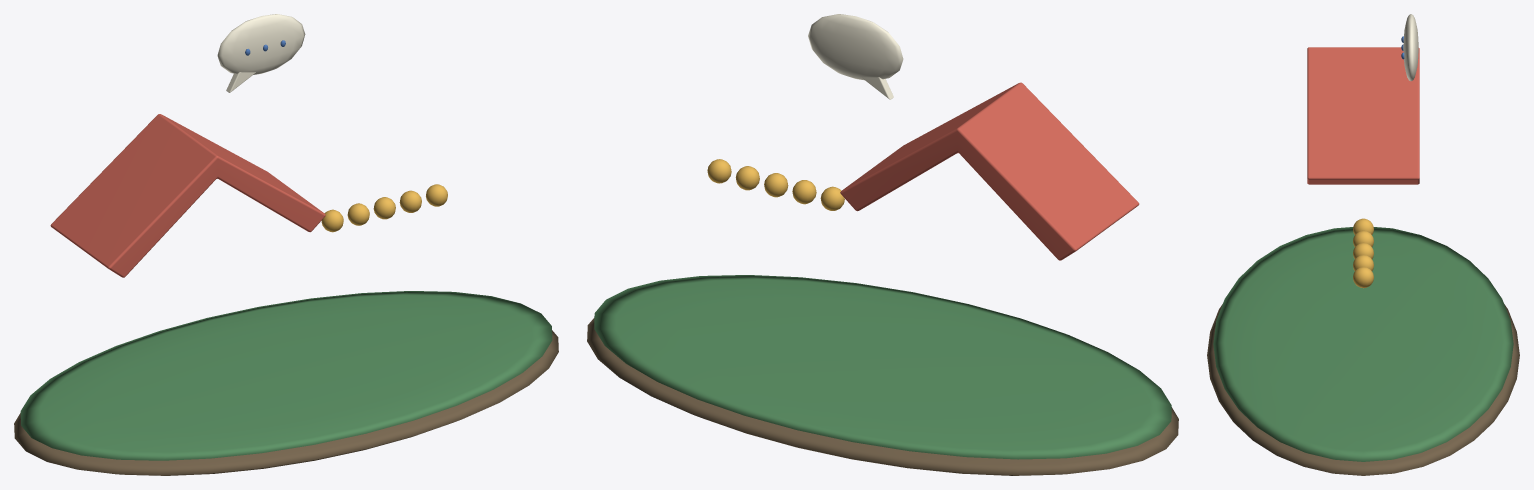
The model's file is complete-third-shelter-sowing-sound.glb.
3 renders of one model, left to right at view 1: azimuth 30°, elevation 25°; view 2: azimuth 150°, elevation 25°; view 3: azimuth 270°, elevation 25°, orthographic. The views are drawn at different scales.
Visible parts, largest first — view 1: complete-third-shelter-sowing-sound_surface_01, complete-third-shelter-sowing-sound_surface_02, complete-third-shelter-sowing-sound_surface_00, complete-third-shelter-sowing-sound_surface_04, complete-third-shelter-sowing-sound_surface_03; view 2: complete-third-shelter-sowing-sound_surface_01, complete-third-shelter-sowing-sound_surface_02, complete-third-shelter-sowing-sound_surface_00, complete-third-shelter-sowing-sound_surface_04, complete-third-shelter-sowing-sound_surface_03; view 3: complete-third-shelter-sowing-sound_surface_01, complete-third-shelter-sowing-sound_surface_02, complete-third-shelter-sowing-sound_surface_00, complete-third-shelter-sowing-sound_surface_03, complete-third-shelter-sowing-sound_surface_04.
Part boxes in pixels (x1,y1,x2,y2): complete-third-shelter-sowing-sound_surface_01: [20, 291, 552, 460]; complete-third-shelter-sowing-sound_surface_02: [50, 114, 325, 277]; complete-third-shelter-sowing-sound_surface_00: [14, 330, 558, 475]; complete-third-shelter-sowing-sound_surface_04: [217, 14, 305, 92]; complete-third-shelter-sowing-sound_surface_03: [321, 184, 447, 232]; complete-third-shelter-sowing-sound_surface_01: [594, 275, 1171, 459]; complete-third-shelter-sowing-sound_surface_02: [840, 82, 1139, 260]; complete-third-shelter-sowing-sound_surface_00: [587, 318, 1178, 475]; complete-third-shelter-sowing-sound_surface_04: [808, 14, 903, 99]; complete-third-shelter-sowing-sound_surface_03: [707, 159, 844, 210]; complete-third-shelter-sowing-sound_surface_01: [1213, 227, 1513, 461]; complete-third-shelter-sowing-sound_surface_02: [1307, 47, 1419, 184]; complete-third-shelter-sowing-sound_surface_00: [1207, 304, 1519, 475]; complete-third-shelter-sowing-sound_surface_03: [1353, 218, 1373, 288]; complete-third-shelter-sowing-sound_surface_04: [1403, 14, 1418, 81].
Size of the model in its own units: 4.56 by 3.08 by 2.5.
